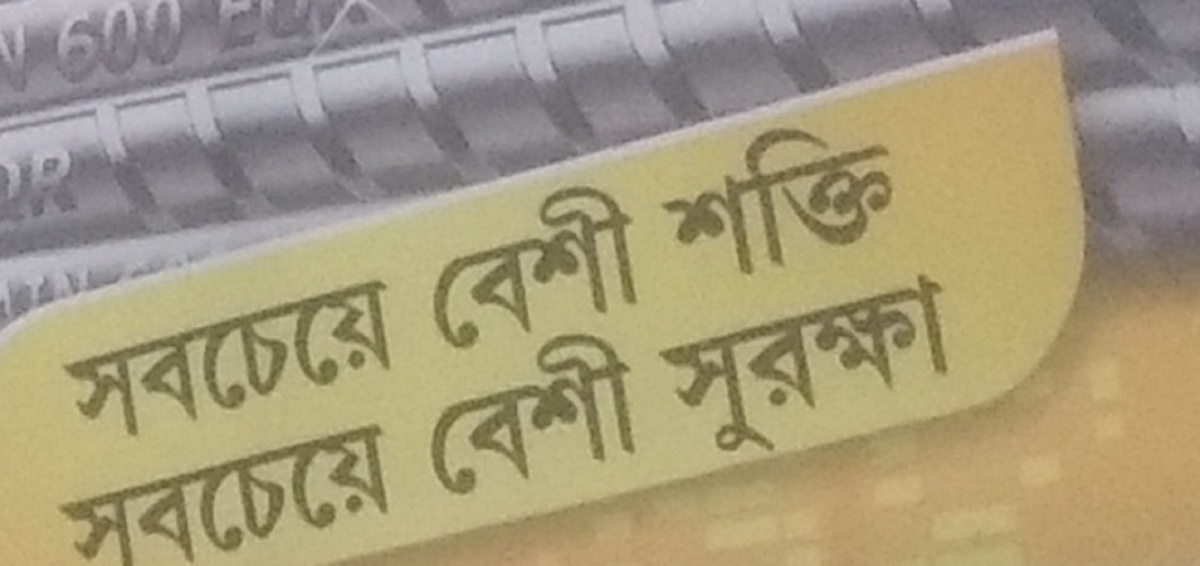text: (657, 82, 672, 295), (673, 82, 688, 295), (689, 82, 704, 295), (705, 82, 720, 295), (721, 82, 736, 295), (737, 82, 752, 295), (753, 82, 768, 295), (769, 82, 784, 295), (785, 82, 800, 295), (801, 82, 816, 295), (817, 82, 832, 295), (833, 82, 848, 295), (849, 82, 864, 295), (865, 82, 880, 295), (881, 82, 896, 295), (897, 82, 912, 295), (433, 148, 448, 355), (449, 148, 464, 355), (465, 148, 480, 355), (481, 148, 496, 355), (497, 148, 512, 355), (513, 148, 528, 355), (529, 148, 544, 355), (545, 148, 560, 355), (561, 148, 576, 355), (577, 148, 592, 355), (593, 148, 608, 355), (609, 148, 624, 355), (625, 148, 640, 355), (657, 266, 672, 467), (673, 266, 688, 467), (689, 266, 704, 467), (705, 266, 720, 467), (721, 266, 736, 467), (737, 266, 752, 467), (753, 266, 768, 467), (769, 266, 784, 467), (785, 266, 800, 467), (801, 266, 816, 467), (817, 266, 832, 467), (833, 266, 848, 467), (849, 266, 864, 467), (865, 266, 880, 467), (881, 266, 896, 467), (897, 266, 912, 467), (913, 266, 928, 467), (929, 266, 944, 467), (945, 266, 960, 467), (417, 318, 432, 508), (433, 318, 448, 508), (449, 318, 464, 508), (465, 318, 480, 508), (481, 318, 496, 508), (497, 318, 512, 508), (513, 318, 528, 508), (529, 318, 544, 508), (545, 318, 560, 508), (561, 318, 576, 508), (577, 318, 592, 508), (593, 318, 608, 508), (609, 318, 624, 508), (625, 318, 640, 508), (65, 271, 80, 453), (81, 271, 96, 453), (97, 271, 112, 453), (113, 271, 128, 453), (129, 271, 144, 453), (145, 271, 160, 453), (161, 271, 176, 453), (177, 271, 192, 453), (193, 271, 208, 453), (209, 271, 224, 453), (225, 271, 240, 453), (241, 271, 256, 453), (257, 271, 272, 453), (273, 271, 288, 453), (289, 271, 304, 453), (305, 271, 320, 453), (321, 271, 336, 453), (337, 271, 352, 453), (353, 271, 368, 453), (369, 271, 384, 453), (385, 271, 398, 453), (49, 414, 64, 565), (65, 414, 80, 565), (81, 414, 96, 565), (97, 414, 112, 565), (113, 414, 128, 565), (129, 414, 144, 565), (145, 414, 160, 565), (161, 414, 176, 565), (177, 414, 192, 565), (193, 414, 208, 565), (209, 414, 224, 565), (225, 414, 240, 565), (241, 414, 256, 565), (257, 414, 272, 565), (273, 414, 288, 565), (289, 414, 304, 565), (305, 414, 320, 565), (321, 414, 336, 565), (337, 414, 352, 565), (353, 414, 368, 565), (369, 414, 384, 565), (913, 82, 923, 295), (422, 148, 432, 355), (641, 148, 651, 355), (53, 271, 64, 453), (385, 414, 397, 565), (961, 266, 970, 467), (17, 239, 32, 342), (33, 239, 48, 342), (49, 239, 64, 342), (65, 239, 80, 342), (81, 239, 96, 342), (97, 239, 112, 342), (113, 239, 128, 342), (129, 239, 144, 342), (145, 239, 160, 342), (161, 239, 176, 342), (177, 239, 192, 342), (193, 239, 208, 342), (209, 239, 224, 342), (225, 239, 240, 342), (641, 318, 649, 508), (2, 239, 16, 342), (17, 139, 32, 232), (33, 139, 48, 232), (49, 139, 64, 232), (65, 139, 80, 232), (49, 1, 64, 92), (65, 1, 80, 92), (81, 1, 96, 92), (97, 1, 112, 92), (113, 1, 128, 92), (129, 1, 144, 92), (145, 1, 160, 92), (161, 1, 176, 92), (2, 139, 16, 232), (177, 1, 189, 92), (4, 16, 16, 103), (17, 16, 29, 103), (209, 1, 224, 60), (225, 1, 240, 60), (241, 1, 256, 60), (257, 1, 272, 60), (273, 1, 288, 60), (289, 1, 304, 60), (305, 1, 320, 60), (321, 1, 336, 60), (337, 1, 352, 60), (353, 1, 368, 60), (653, 82, 656, 295), (369, 1, 379, 60), (241, 239, 245, 342), (654, 266, 656, 467), (81, 139, 85, 232), (45, 1, 48, 92), (415, 318, 416, 508)
